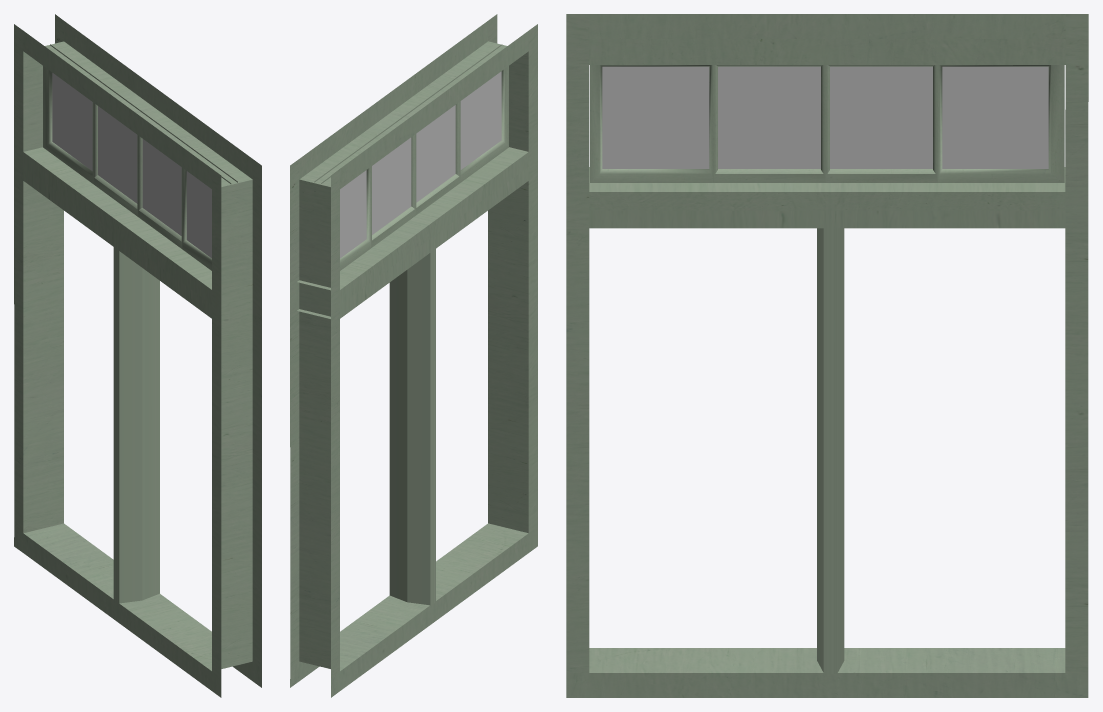
Rendered from SM_WW5_Frame.fbx.
3 renders of one model, left to right at view 1: azimuth 30°, elevation 25°; view 2: azimuth 150°, elevation 25°; view 3: azimuth 270°, elevation 25°, orthographic. The views are drawn at different scales.
Parts seen in each view (by area): view 1: SM_WW5_Frame; view 2: SM_WW5_Frame; view 3: SM_WW5_Frame.
Part boxes in pixels (box(x1,y1,x2,y2)): SM_WW5_Frame: box(14, 14, 261, 697); SM_WW5_Frame: box(290, 14, 537, 697); SM_WW5_Frame: box(566, 14, 1088, 697).
Size of the model in its own units: 20.61 by 181 by 252.
2 materials, 1 textured.
